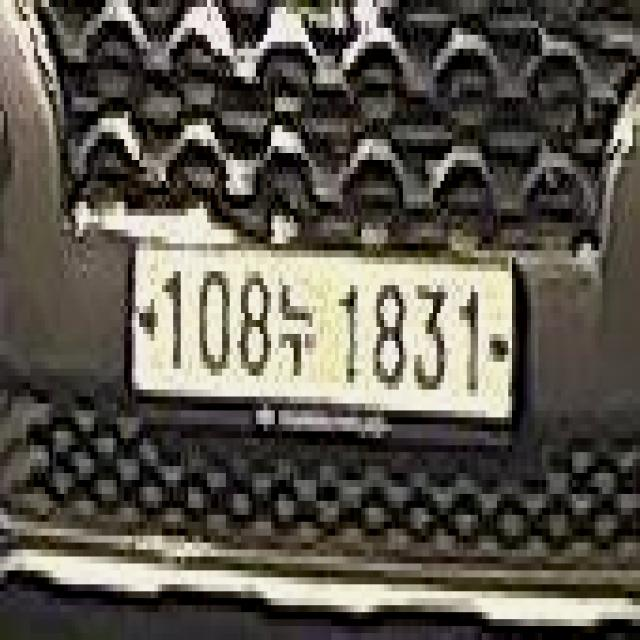illegal_plate: (126, 236, 523, 451)
